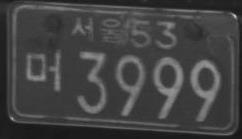3: (75, 49, 109, 116), (154, 19, 178, 51)
5: (128, 17, 153, 49)
9: (112, 52, 147, 118), (150, 54, 185, 120), (187, 57, 222, 122)
머: (24, 47, 64, 92)
서울_O: (70, 15, 126, 46)
